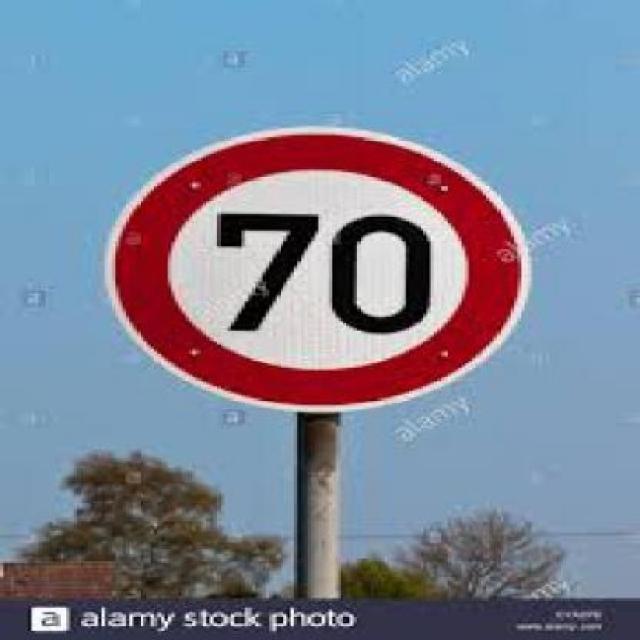forb_speed_over_70: (119, 125, 530, 411)
